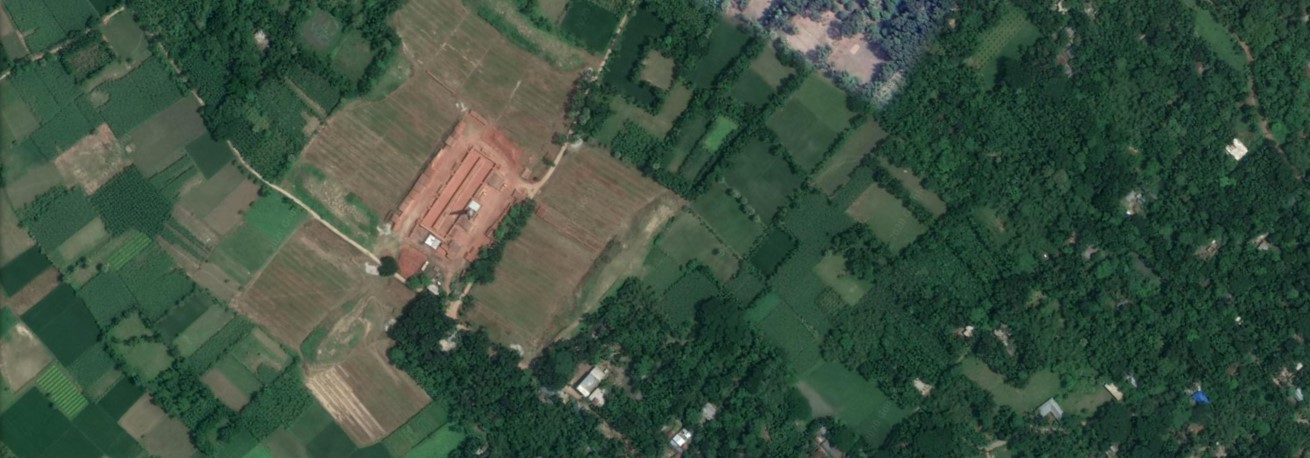kiln: (400, 160, 516, 244)
